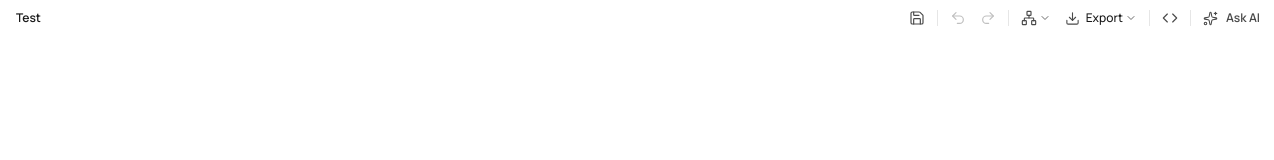
Arrange menu (formerly Layout) — auto layout (#3, #219 T16) › menu keyboard — opening focuses the first item, ↓ walks to the flips, Escape closes back to Arrange (#219)
Click the 4th button named "Arrange" at (1036, 18), box [1015,4,1057,32]
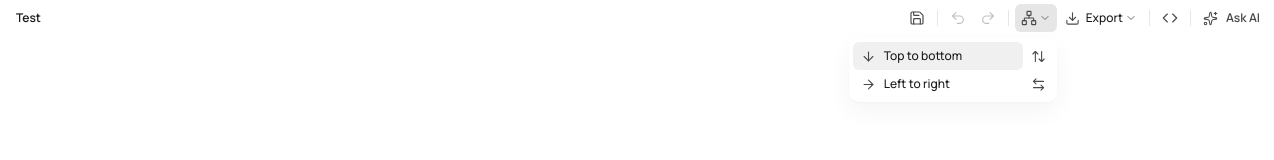
Press Arrowdown
Press End
Press Home
Press Escape
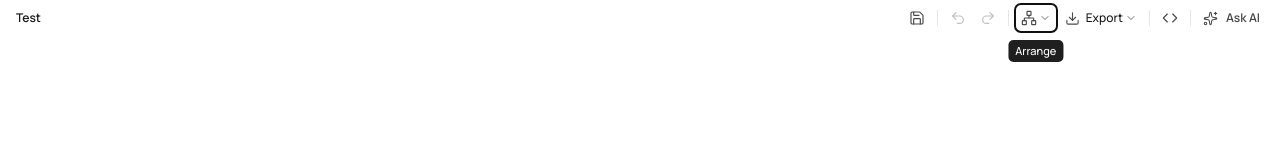
Expected: the menu is gone
